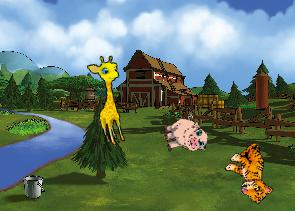giraffe: (85, 53, 136, 147)
pig: (160, 112, 209, 159)
tiger: (218, 137, 287, 207)
